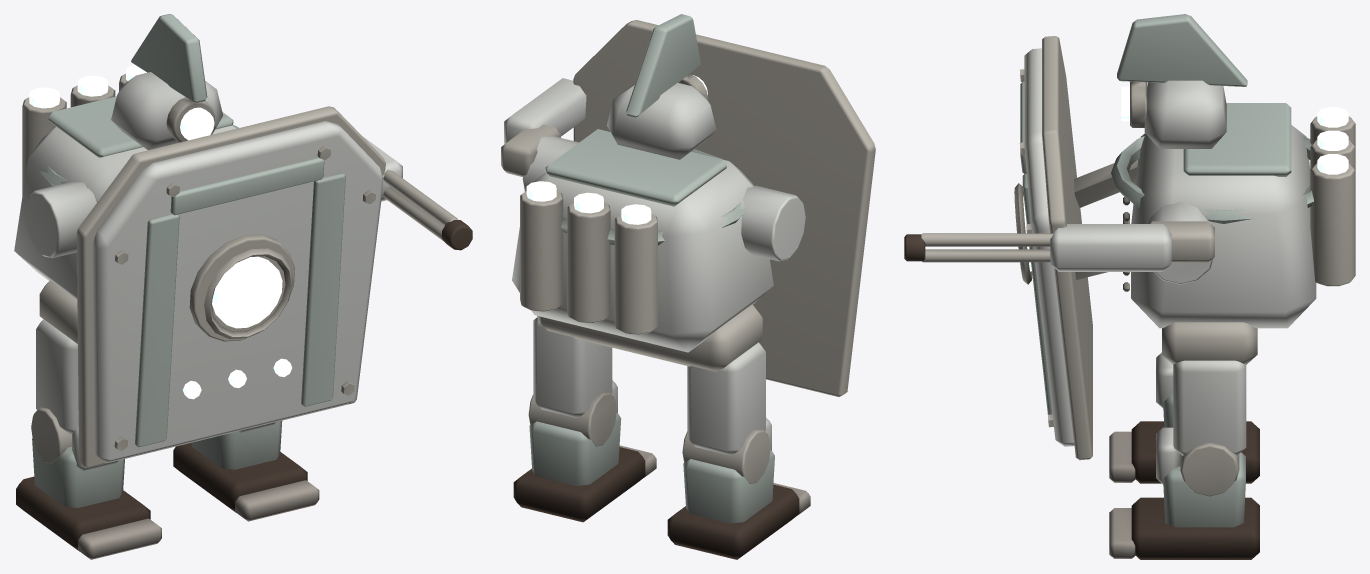
Rendered from bulwark.glb.
3 renders of one model, left to right at view 1: azimuth 30°, elevation 25°; view 2: azimuth 150°, elevation 25°; view 3: azimuth 270°, elevation 25°, orthographic. The views are drawn at different scales.
Parts seen in each view (by area): view 1: Ward_plate, Shield_stripes, Ward_rim, Body_hull, Head, Boot, Crest, Boot.001, Shoulder_socket, Upper_leg, Ward_emitter, Shin (+17 smaller); view 2: Ward_rim, Body_hull, Capacitors, Roof_panel, Upper_leg, Upper_leg.001, Head, Shoulder_socket, Hip_bridge, Boot.001, Boot, Shin (+8 smaller); view 3: Body_hull, Ward_rim, Ward_plate, Upper_leg.001, Crest, Capacitors, Roof_panel, Barrel_housing, Boot.001, Head, Hip_bridge, Shin.001 (+16 smaller).
Part boxes in pixels (x1=…): Ward_plate: x1=92, y1=121, x2=383, y2=462; Shield_stripes: x1=135, y1=172, x2=345, y2=447; Ward_rim: x1=76, y1=106, x2=385, y2=467; Body_hull: x1=14, y1=125, x2=236, y2=299; Head: x1=111, y1=72, x2=222, y2=150; Boot: x1=16, y1=476, x2=150, y2=551; Crest: x1=131, y1=14, x2=207, y2=103; Boot.001: x1=173, y1=442, x2=307, y2=512; Shoulder_socket: x1=25, y1=181, x2=97, y2=258; Upper_leg: x1=36, y1=319, x2=78, y2=434; Ward_emitter: x1=212, y1=256, x2=282, y2=328; Shin: x1=32, y1=438, x2=124, y2=507; Ward_rim: x1=573, y1=20, x2=875, y2=396; Body_hull: x1=512, y1=159, x2=773, y2=352; Capacitors: x1=520, y1=191, x2=657, y2=334; Roof_panel: x1=545, y1=129, x2=726, y2=206; Upper_leg: x1=687, y1=342, x2=765, y2=455; Upper_leg.001: x1=533, y1=317, x2=612, y2=417; Head: x1=607, y1=82, x2=716, y2=159; Shoulder_socket: x1=522, y1=136, x2=805, y2=261; Hip_bridge: x1=537, y1=304, x2=762, y2=371; Boot.001: x1=513, y1=447, x2=645, y2=522; Boot: x1=667, y1=484, x2=799, y2=559; Shin: x1=683, y1=449, x2=774, y2=523; Body_hull: x1=1131, y1=125, x2=1316, y2=328; Ward_rim: x1=1042, y1=36, x2=1092, y2=460; Ward_plate: x1=1024, y1=48, x2=1074, y2=446; Upper_leg.001: x1=1173, y1=360, x2=1246, y2=455; Crest: x1=1117, y1=14, x2=1247, y2=86; Capacitors: x1=1310, y1=116, x2=1355, y2=286; Roof_panel: x1=1183, y1=103, x2=1291, y2=176; Barrel_housing: x1=1050, y1=224, x2=1171, y2=271; Boot.001: x1=1131, y1=497, x2=1259, y2=559; Head: x1=1144, y1=80, x2=1226, y2=148; Hip_bridge: x1=1162, y1=322, x2=1257, y2=364; Shin.001: x1=1163, y1=452, x2=1245, y2=527.
Bounding box in the file's own units: 2.15 × 3.12 × 2.6.
